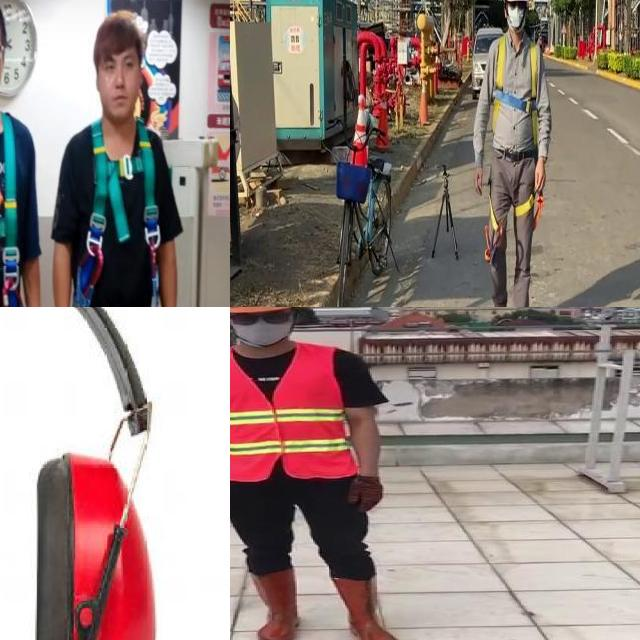Ear-protection: (0, 307, 174, 640)
Harness: (68, 117, 162, 307), (494, 36, 538, 146)
boots: (330, 577, 400, 640), (247, 562, 302, 640)
person: (230, 307, 419, 640)
vest: (230, 346, 357, 480)
